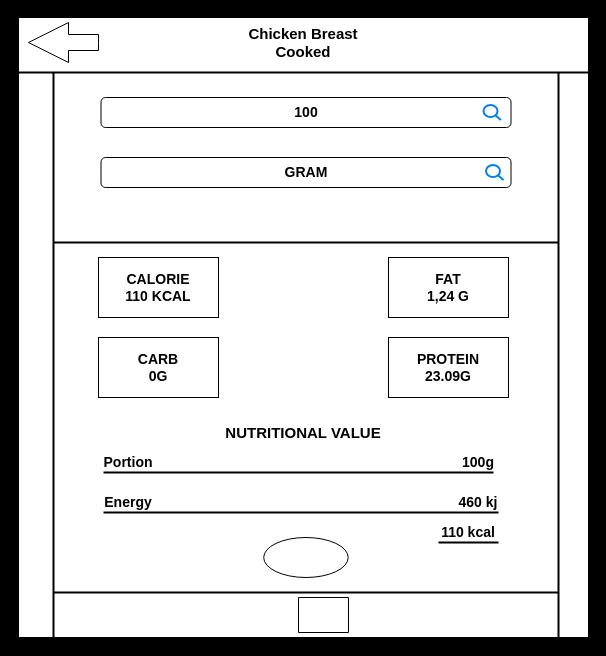
This 606x656 diagram has some shape labels left out. Here are the shapes that lost their labels. From the top down, the centre of each, then its label:
At (x=305, y=557): "Add".
At (x=323, y=614): "HOME".
